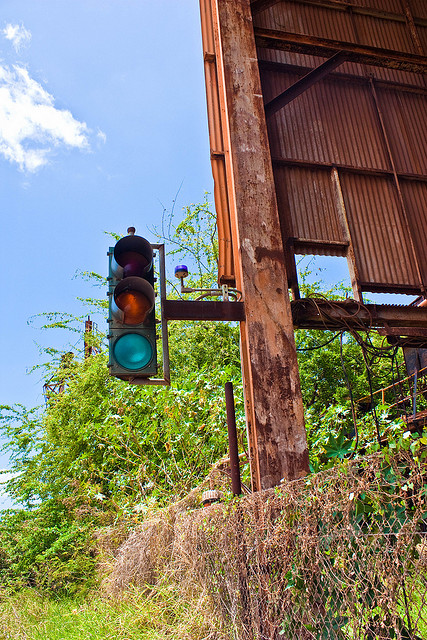Traffic light: (98, 233, 176, 388)
